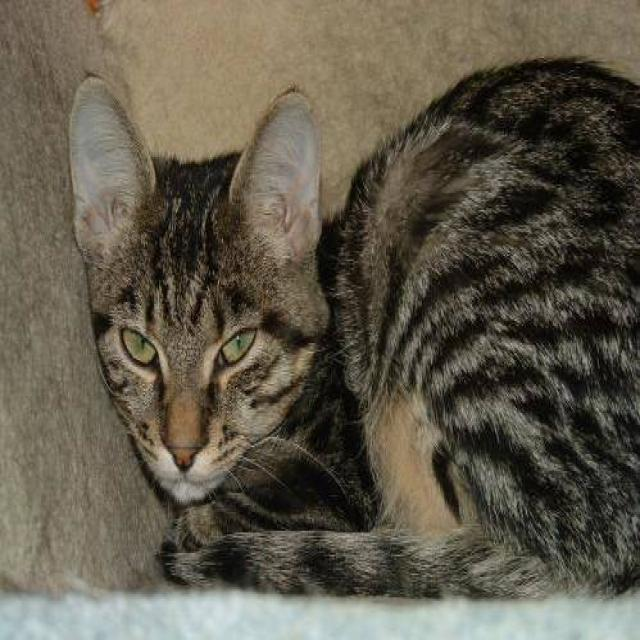cat: (66, 54, 638, 600)
